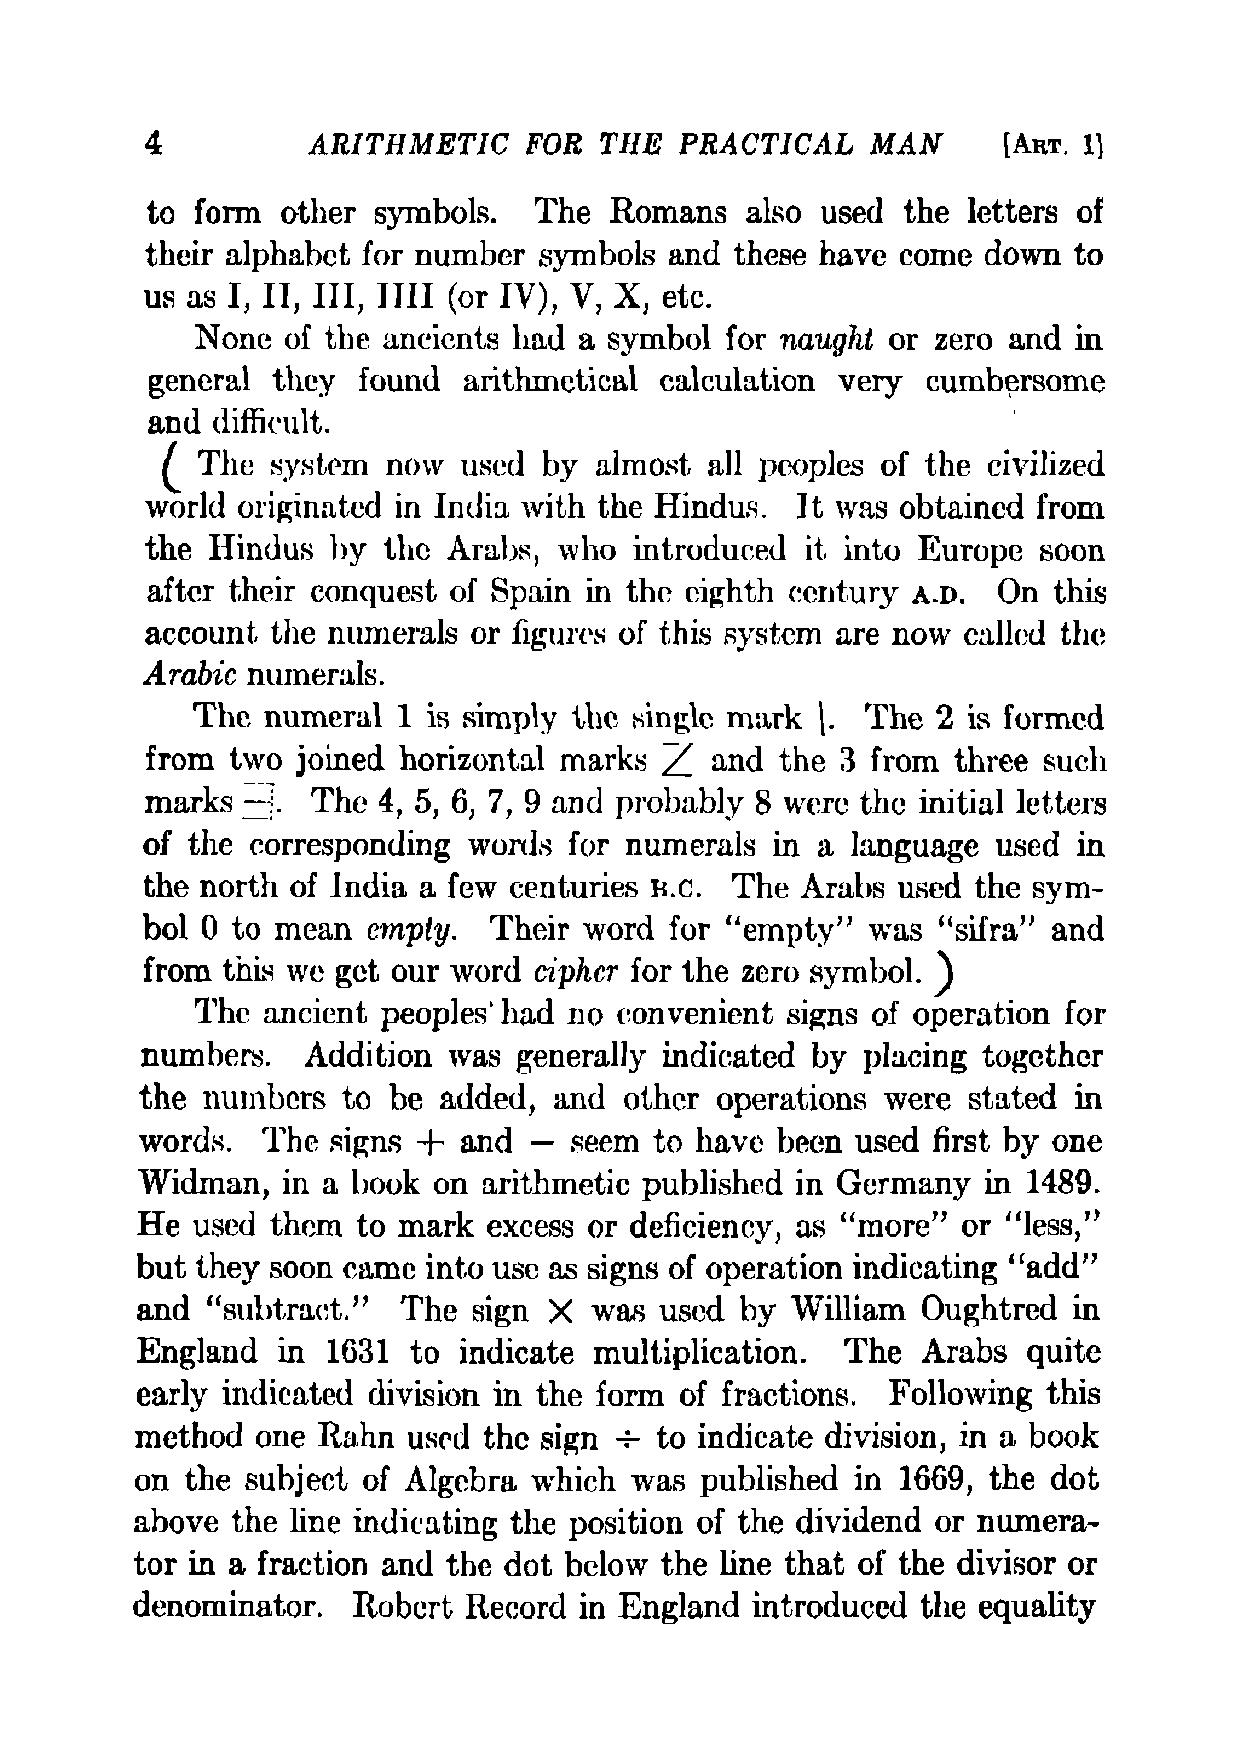content: (129, 191, 1108, 1631)
content_chapter: (302, 123, 1104, 158)
content_pagenumber: (138, 123, 165, 153)
